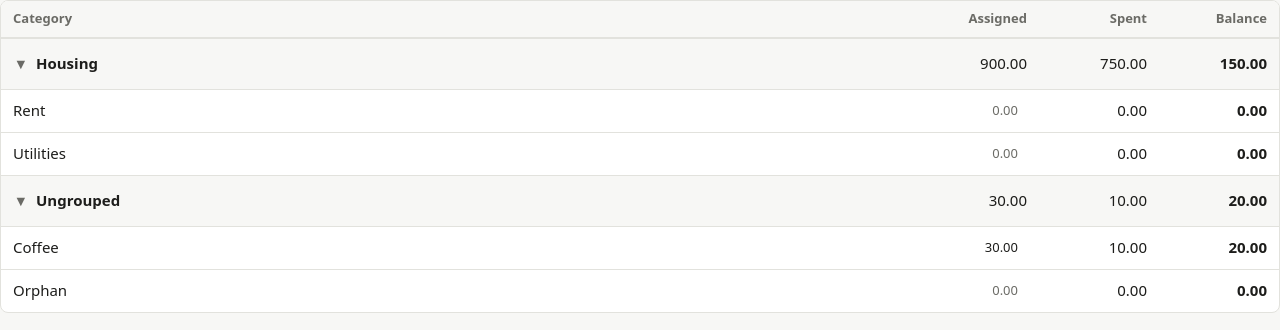
Test case: EnvelopesTable › groups › folds a group, and remembers it
The width and height of the screenshot is (1280, 330).
Click the button "▾ Housing". click: click(56, 64)
box: [13, 46, 98, 80]
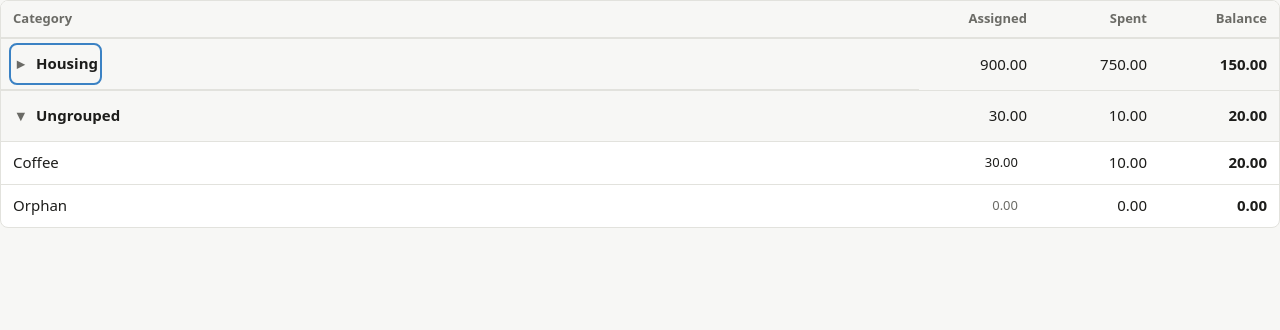
expect the row "▸ Housing 900.00 750.00 150.00" is shown: met, box [1, 38, 1279, 90]
expect the text "Rent" is gone: met
expect the button "▸ Housing" is collapsed: met
Click the button "▸ Housing". click: click(56, 64)
box: [13, 46, 98, 80]
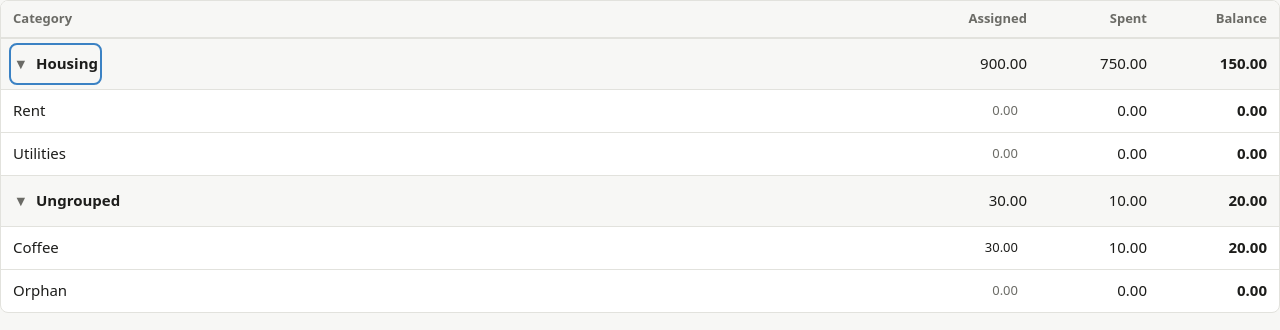
expect the text "Rent" is shown: met, box [13, 100, 46, 120]
